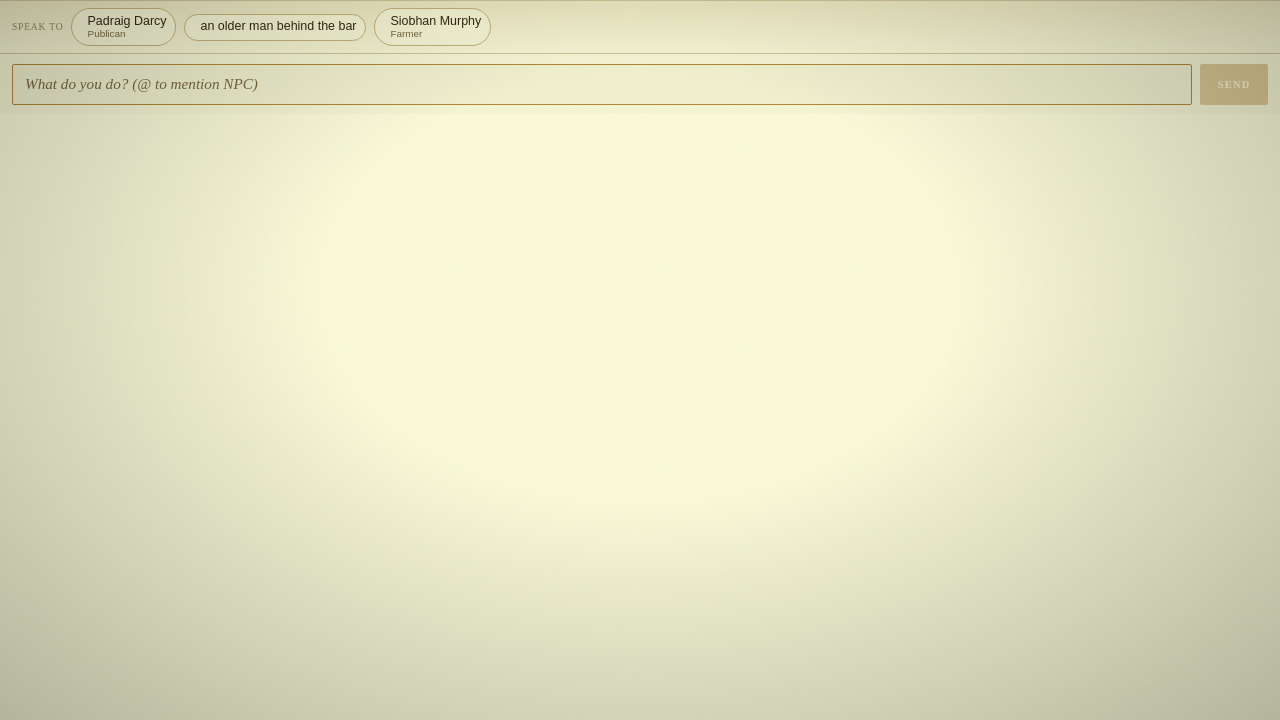
Test: InputField › npc selection buttons › clicking an npc chip inserts an @name mention chip into the editor
The width and height of the screenshot is (1280, 720).
Step 1. Click the button with class "npc-chip" showing "Padraig Darcy Publican" → click(124, 27), box [71,8,176,46]
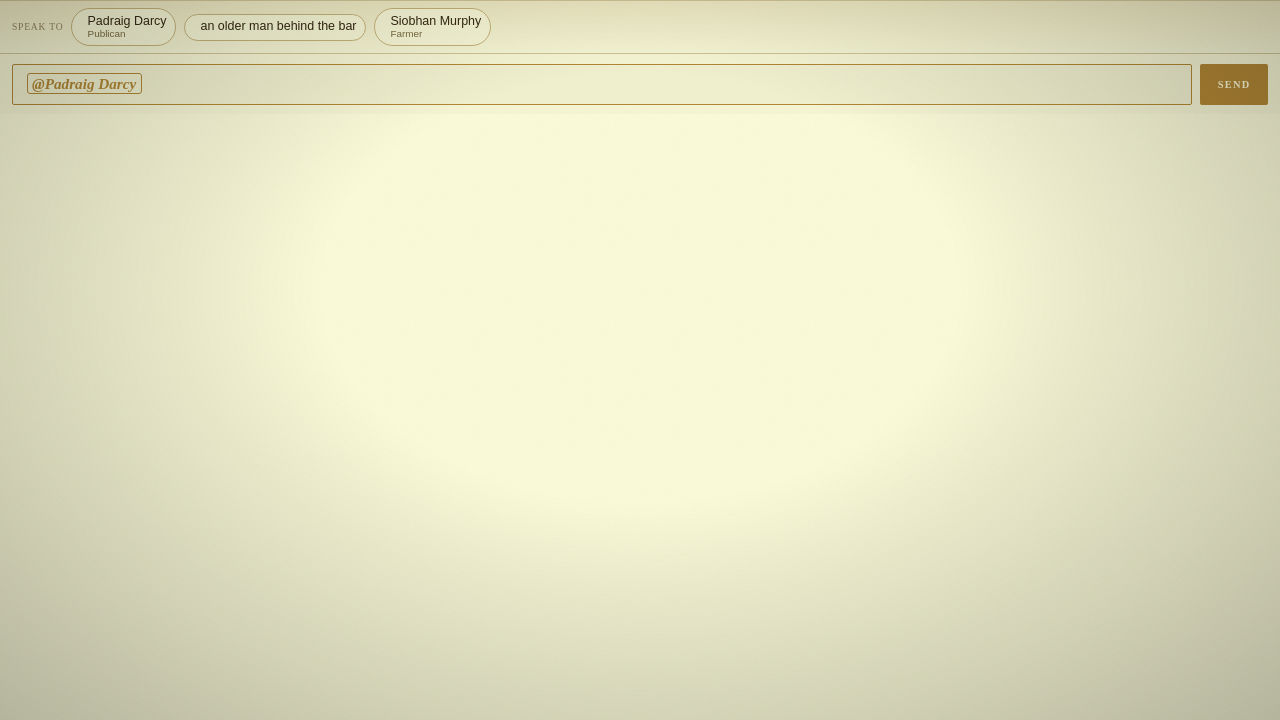
expect the picture with class "mention-chip" is shown: met, box [26,73,142,94]
expect the picture with class "mention-chip" reads "@Padraig Darcy": met, box [32,75,136,92]
